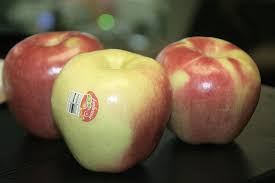apple: (55, 51, 168, 167), (156, 37, 266, 155), (6, 33, 103, 135)
